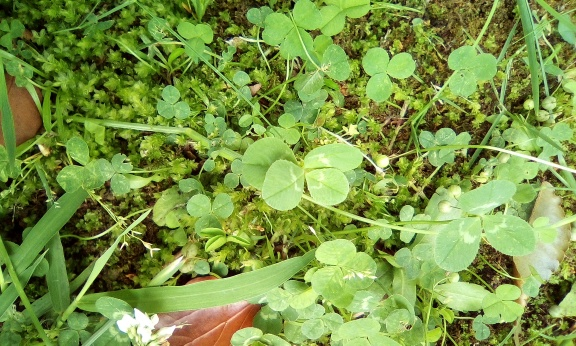4leaf: (240, 136, 363, 211)
